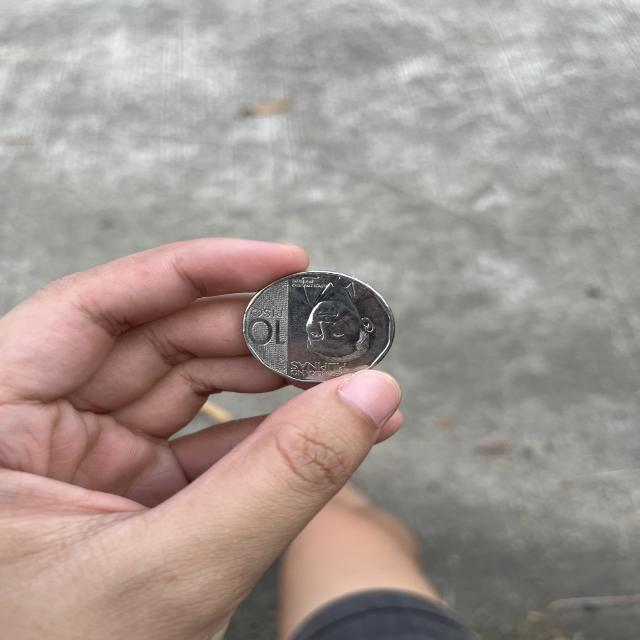10_New_Front: (247, 292, 286, 348)
